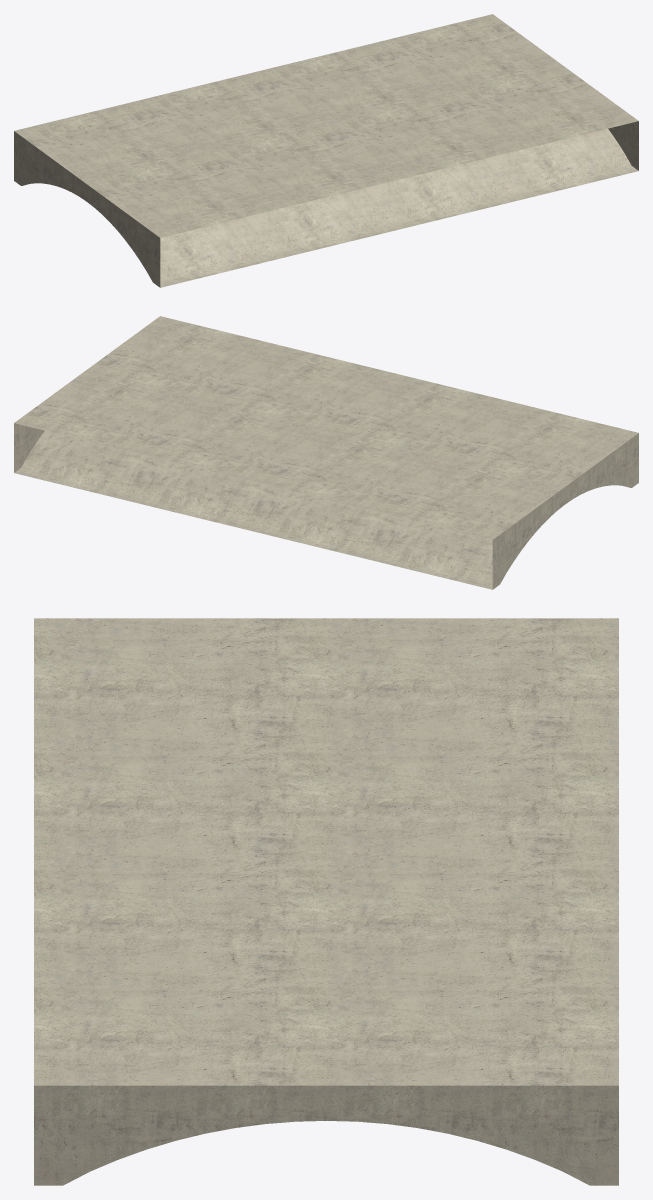
Rendered from BridgeBase7-6L.fbx.
3 views of the same model, one above another, from view 1: azimuth 30°, elevation 25°; view 2: azimuth 150°, elevation 25°; view 3: azimuth 270°, elevation 25° (orthographic). The views are drawn at different scales.
Visible parts, largest first — view 1: BridgeBase7-6L; view 2: BridgeBase7-6L; view 3: BridgeBase7-6L.
Boxes of the visible parts, bbox=[...] form: BridgeBase7-6L: bbox=[14, 14, 638, 287]; BridgeBase7-6L: bbox=[14, 316, 638, 589]; BridgeBase7-6L: bbox=[34, 618, 618, 1185].
Size of the model in its own units: 38 by 3.79 by 20.1.
